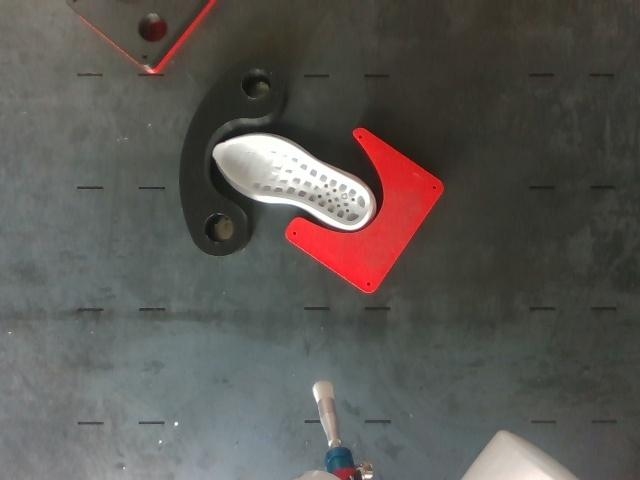shoes: (213, 136, 370, 225)
